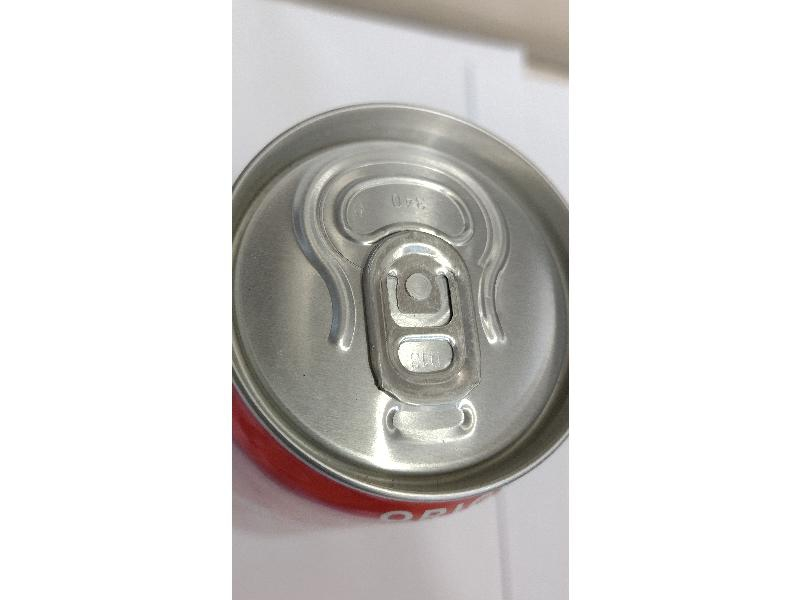can: (230, 106, 568, 495)
